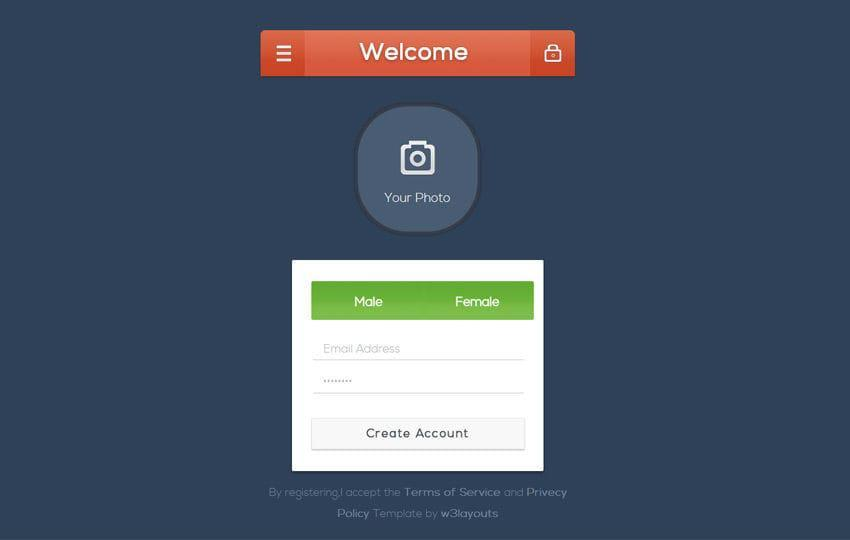button: (312, 419, 526, 451)
icon: (396, 141, 439, 182), (270, 41, 300, 68), (542, 41, 566, 71)
